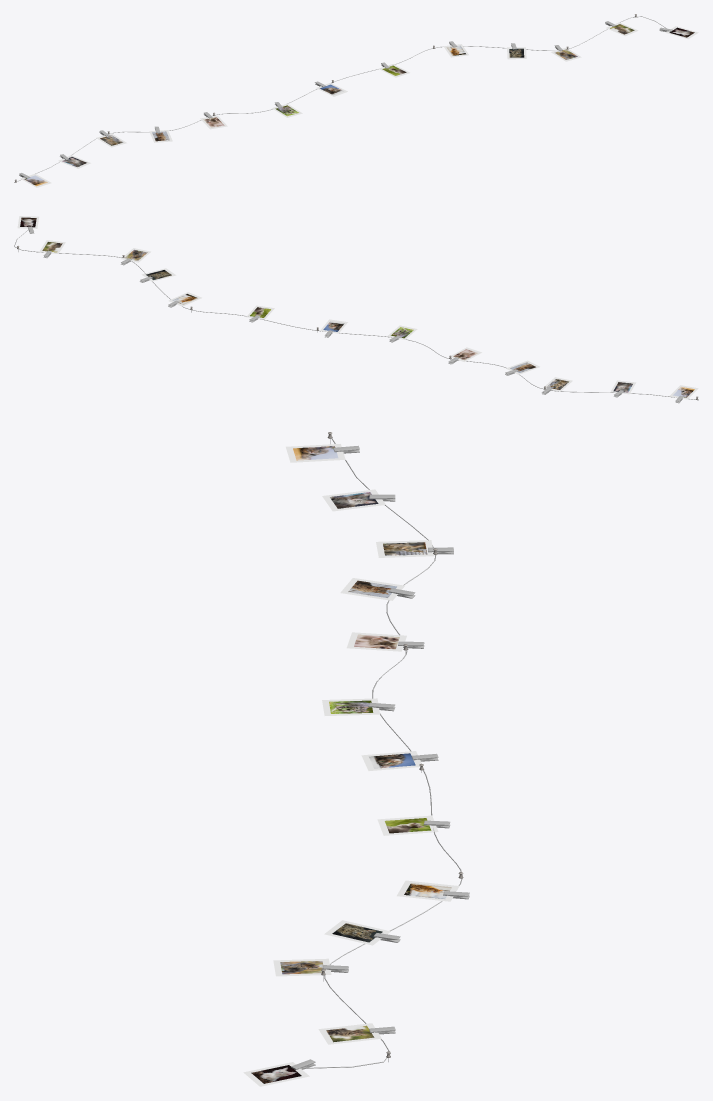
File: wall_cats_picture_decoration__wall_decoration.glb
The picture shows the model from 3 angles, top to bottom: view 1: azimuth 30°, elevation 25°; view 2: azimuth 150°, elevation 25°; view 3: azimuth 270°, elevation 25°; orthographic projection. The views are drawn at different scales.
Parts seen in each view (by area): view 1: Photos, PhotoBlanc, CatPictureDeco, epingles; view 2: Photos, PhotoBlanc, CatPictureDeco, epingles; view 3: Photos, PhotoBlanc, epingles, CatPictureDeco.
Boxes of the visible parts, bbox=[...] form: Photos: bbox=[24, 24, 694, 186]; PhotoBlanc: bbox=[20, 22, 698, 187]; CatPictureDeco: bbox=[14, 16, 666, 182]; epingles: bbox=[19, 21, 672, 178]; Photos: bbox=[20, 217, 694, 397]; PhotoBlanc: bbox=[17, 216, 698, 399]; CatPictureDeco: bbox=[14, 229, 698, 400]; epingles: bbox=[28, 226, 683, 403]; Photos: bbox=[251, 446, 451, 1083]; PhotoBlanc: bbox=[243, 444, 459, 1086]; epingles: bbox=[291, 445, 469, 1069]; CatPictureDeco: bbox=[302, 438, 462, 1068].
Bounding box in the file's own units: 2.82 × 0.0265 × 0.4149.
Materials: 17 (13 with a texture image).
